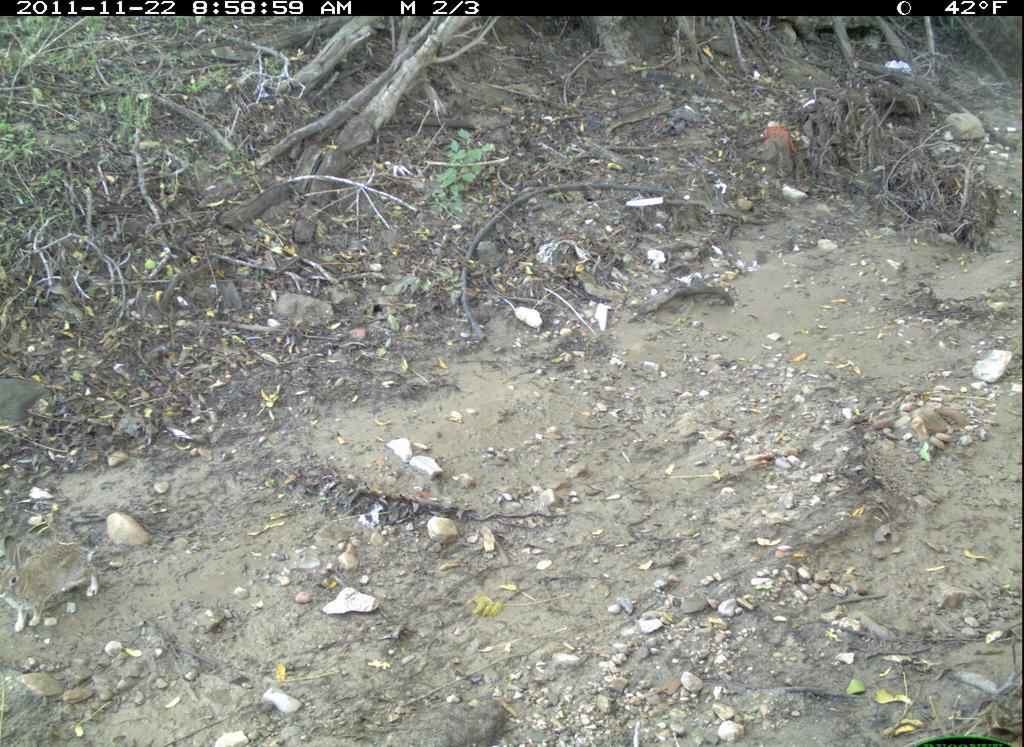rabbit: (1, 534, 104, 638)
